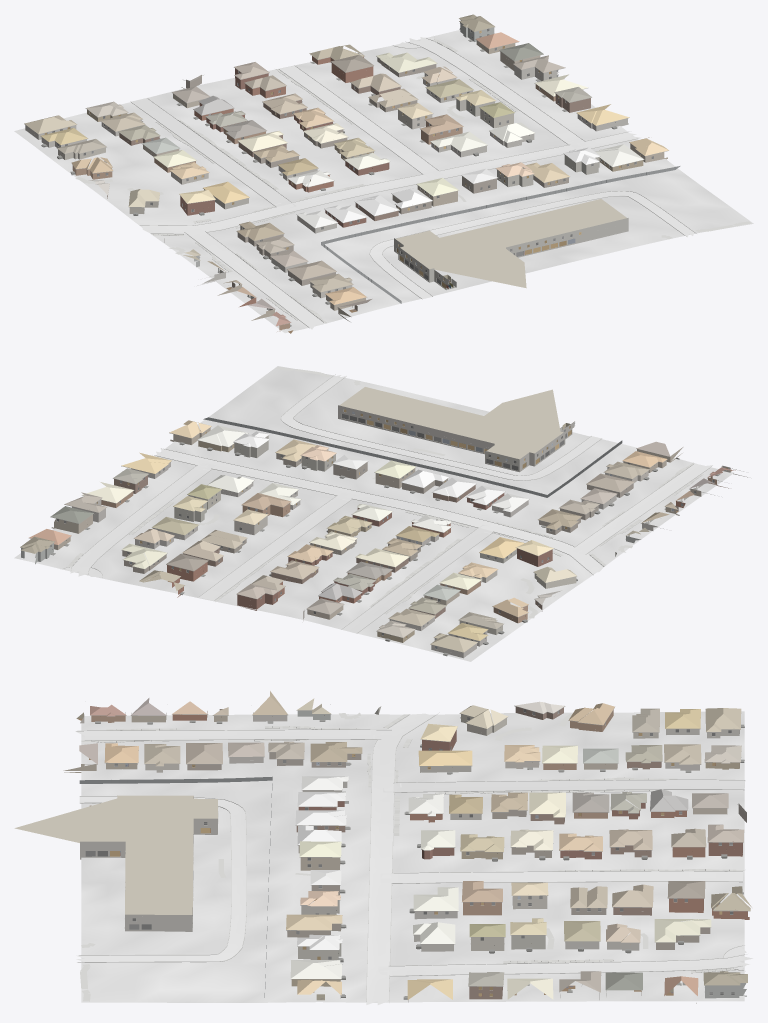
3 renders of one model, top to bottom at view 1: azimuth 30°, elevation 25°; view 2: azimuth 150°, elevation 25°; view 3: azimuth 270°, elevation 25°, orthographic. The views are drawn at different scales.
Parts seen in each view (by area): view 1: ground, roof, concrete, wall, roof_flat, detail, wall_stucco, curb, wall_stone, walk, wall_com, chain (+2 smaller); view 2: ground, roof, concrete, wall, roof_flat, detail, wall_stucco, curb, wall_com, walk, wall_stone, chain (+2 smaller); view 3: ground, roof, concrete, roof_flat, wall, curb, wall_stucco, detail, walk, wall_stone, wall_com, glass (+1 smaller).
Boxes of the visible parts, <box> form: ground: <box>14,30,753,333</box>; roof: <box>24,14,668,326</box>; concrete: <box>131,37,693,329</box>; wall: <box>72,40,643,331</box>; roof_flat: <box>396,199,626,288</box>; detail: <box>24,19,675,329</box>; wall_stucco: <box>58,22,667,298</box>; curb: <box>130,36,696,327</box>; wall_stone: <box>25,65,628,285</box>; walk: <box>75,39,751,323</box>; wall_com: <box>394,218,628,289</box>; chain: <box>321,166,680,303</box>; ground: <box>14,366,733,661</box>; roof: <box>20,420,735,652</box>; concrete: <box>65,375,712,633</box>; wall: <box>54,440,728,642</box>; roof_flat: <box>339,387,563,459</box>; detail: <box>20,409,743,656</box>; wall_stucco: <box>21,427,747,634</box>; curb: <box>63,374,711,633</box>; wall_com: <box>338,405,574,472</box>; walk: <box>67,366,702,618</box>; wall_stone: <box>72,462,657,658</box>; chain: <box>203,417,622,497</box>; ground: <box>81,711,744,1002</box>; roof: <box>79,691,751,999</box>; concrete: <box>75,713,752,1004</box>; roof_flat: <box>14,795,217,914</box>; wall: <box>63,706,749,1003</box>; curb: <box>76,712,746,1002</box>; wall_stucco: <box>80,704,746,998</box>; detail: <box>80,705,750,999</box>; walk: <box>80,712,745,1001</box>; wall_stone: <box>229,715,739,1002</box>; wall_com: <box>80,797,217,931</box>; glass: <box>85,709,734,995</box>.
Size of the model in its own units: 267 by 12.33 by 279.
